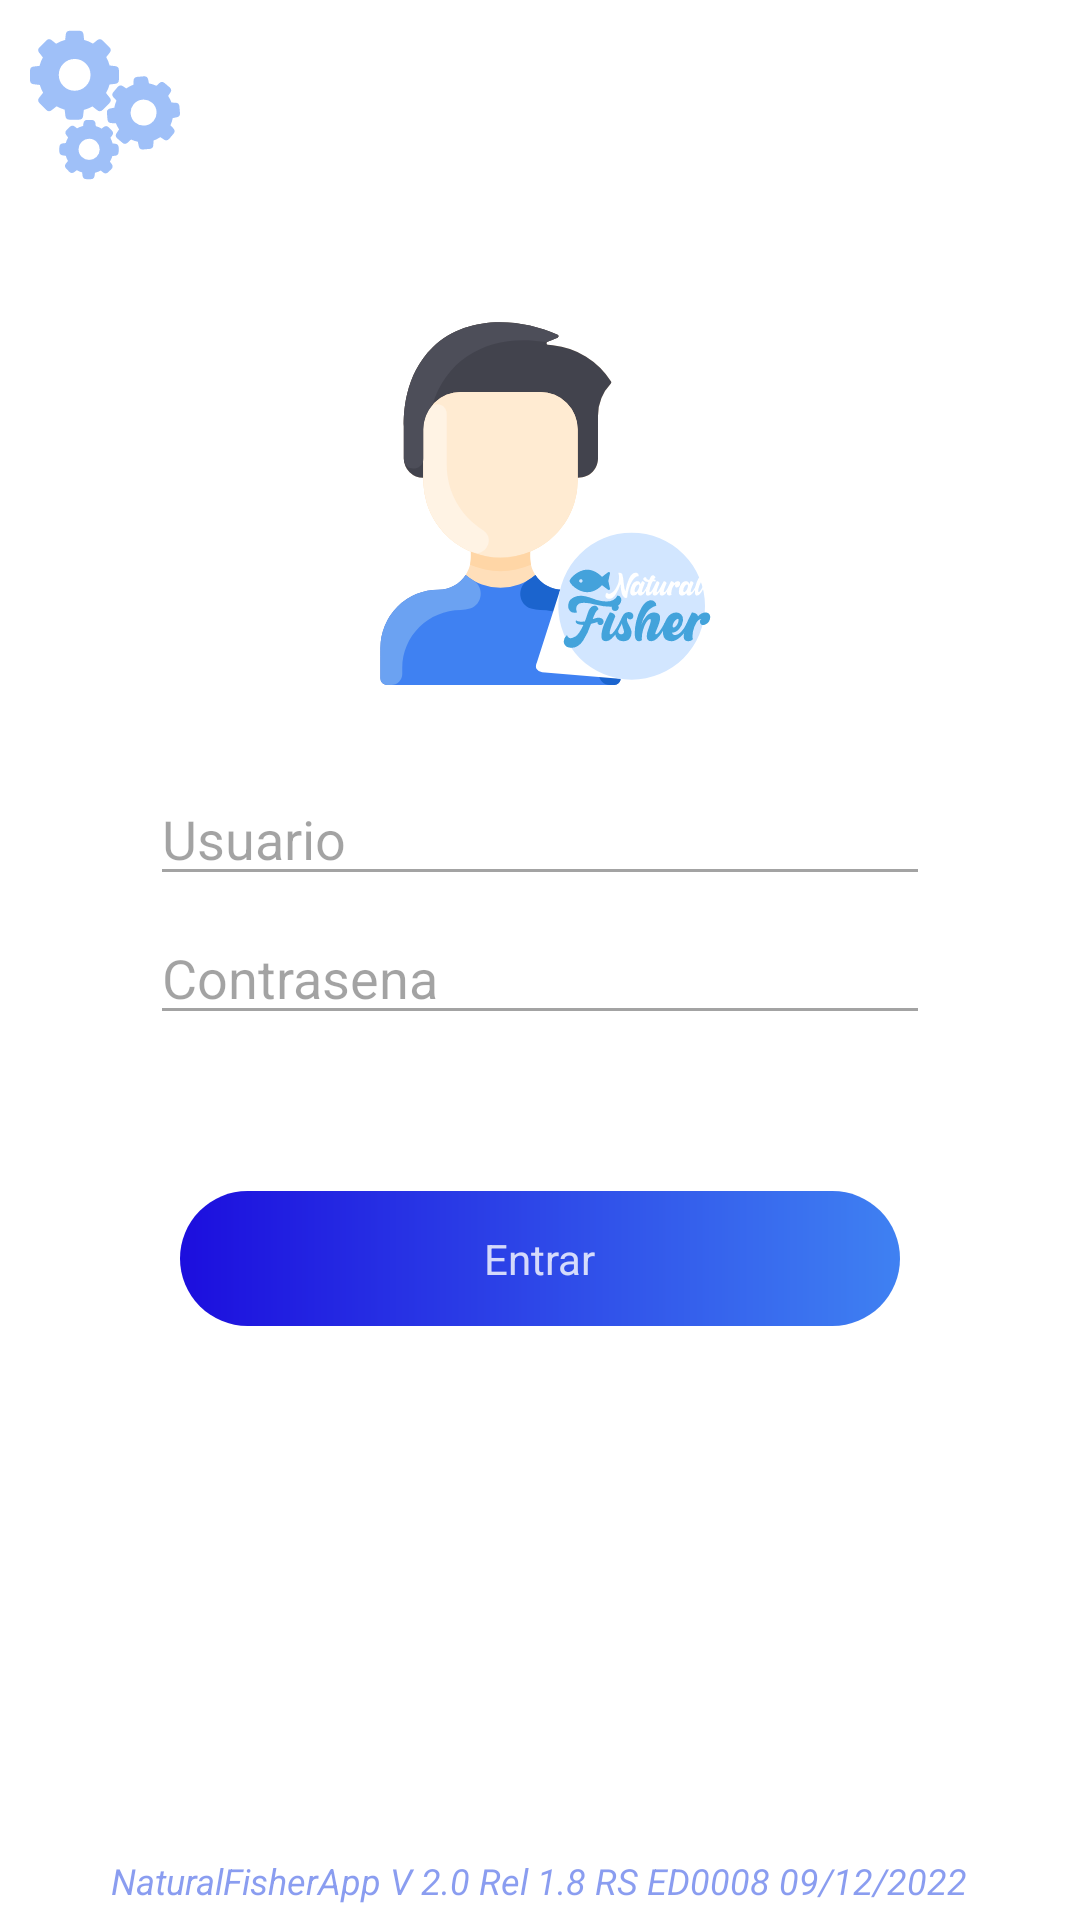

Icons on this 1080w x 1920h Android screen, each with the point to tap as (x,y):
engranaje azul: (105,105)
